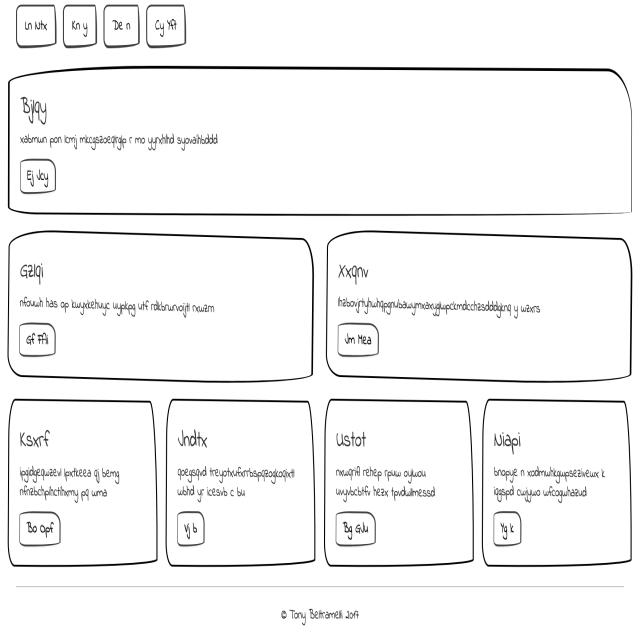Button: (334, 508, 377, 553), (14, 326, 63, 365), (169, 508, 212, 546), (336, 328, 385, 361), (21, 155, 60, 193), (20, 514, 61, 548), (490, 510, 524, 550)
Card: (2, 70, 637, 213), (326, 232, 636, 390), (6, 229, 316, 381), (477, 397, 636, 570), (8, 394, 160, 568), (166, 401, 318, 566), (328, 401, 470, 568)
Footer: (2, 578, 634, 640)
Heading 6: (12, 243, 52, 292), (9, 421, 62, 451), (490, 423, 530, 457), (17, 85, 53, 119), (341, 254, 383, 283), (172, 425, 218, 449), (333, 426, 382, 448)
Navigation Bar: (0, 0, 187, 52)
Paragraph: (14, 447, 128, 508), (13, 292, 226, 324), (16, 127, 232, 154), (491, 462, 615, 506), (174, 458, 300, 501), (326, 460, 444, 504), (332, 292, 546, 316)
